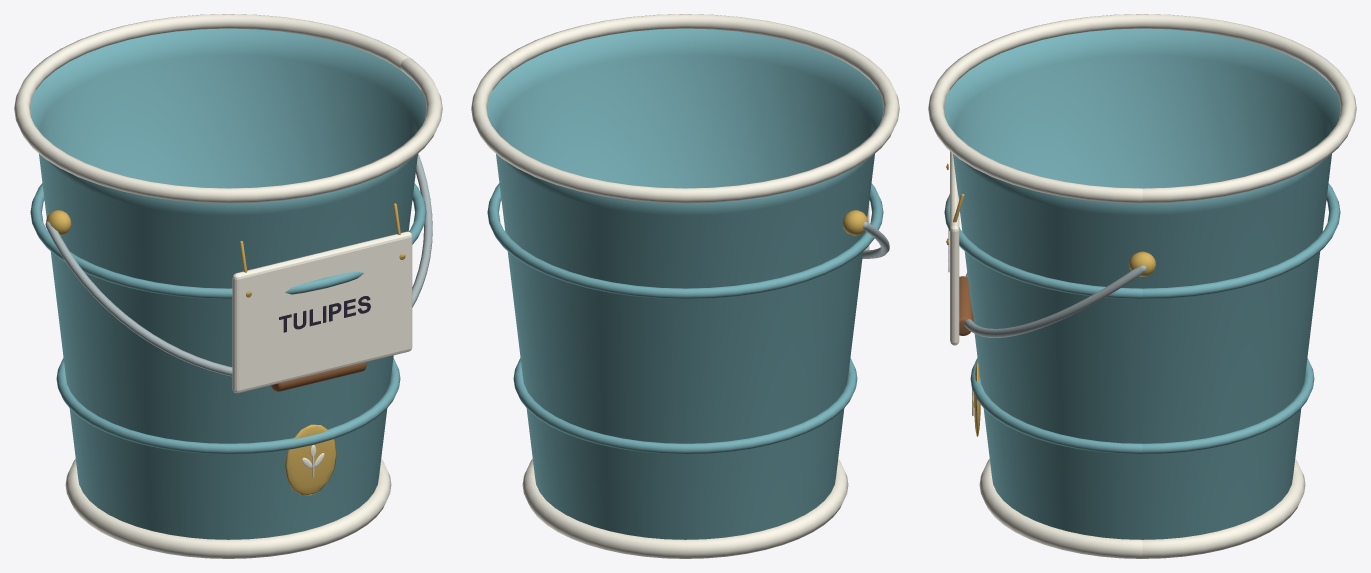
Rendered from bucket_tulips.glb.
3 views of the same model, side by side, from view 1: azimuth 30°, elevation 25°; view 2: azimuth 150°, elevation 25°; view 3: azimuth 270°, elevation 25° (orthographic).
Parts seen in each view (by area): view 1: Open_metal_reservoir, Removable_price_plaque, Rolled_cream_lip, Reinforced_base, Pressed_bucket_rib, Pressed_bucket_rib.001, Fold_down_wire_handle, Botanical_enamel_crest, Label_bold_species, Wood_handle_grip; view 2: Open_metal_reservoir, Rolled_cream_lip, Reinforced_base, Pressed_bucket_rib.001, Pressed_bucket_rib, Fold_down_wire_handle; view 3: Open_metal_reservoir, Rolled_cream_lip, Reinforced_base, Pressed_bucket_rib.001, Pressed_bucket_rib, Fold_down_wire_handle, Removable_price_plaque, Wood_handle_grip.
Part boxes in pixels (left/top/right/bottom): Open_metal_reservoir: left=30, top=28, right=426, bottom=539; Removable_price_plaque: left=232, top=231, right=412, bottom=393; Rolled_cream_lip: left=14, top=14, right=442, bottom=203; Reinforced_base: left=65, top=459, right=391, bottom=558; Pressed_bucket_rib: left=56, top=358, right=400, bottom=454; Pressed_bucket_rib.001: left=30, top=183, right=426, bottom=299; Fold_down_wire_handle: left=45, top=153, right=432, bottom=376; Botanical_enamel_crest: left=285, top=424, right=336, bottom=495; Label_bold_species: left=279, top=296, right=370, bottom=332; Wood_handle_grip: left=271, top=362, right=366, bottom=391; Open_metal_reservoir: left=487, top=28, right=883, bottom=539; Rolled_cream_lip: left=471, top=14, right=899, bottom=203; Reinforced_base: left=522, top=459, right=848, bottom=558; Pressed_bucket_rib.001: left=487, top=183, right=883, bottom=299; Pressed_bucket_rib: left=513, top=358, right=857, bottom=454; Fold_down_wire_handle: left=862, top=221, right=889, bottom=258; Open_metal_reservoir: left=944, top=28, right=1340, bottom=539; Rolled_cream_lip: left=928, top=14, right=1356, bottom=203; Reinforced_base: left=979, top=459, right=1305, bottom=558; Pressed_bucket_rib.001: left=944, top=183, right=1340, bottom=299; Pressed_bucket_rib: left=970, top=358, right=1314, bottom=454; Fold_down_wire_handle: left=964, top=265, right=1146, bottom=337; Removable_price_plaque: left=950, top=151, right=959, bottom=345; Wood_handle_grip: left=959, top=276, right=973, bottom=335.
Size of the model in its own units: 0.374 by 0.387 by 0.374.
